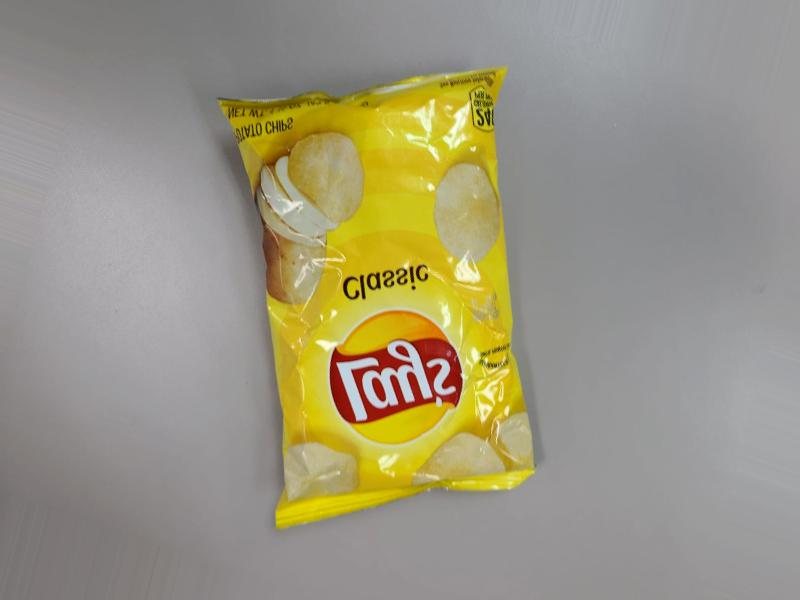lays: (214, 119, 552, 583)
